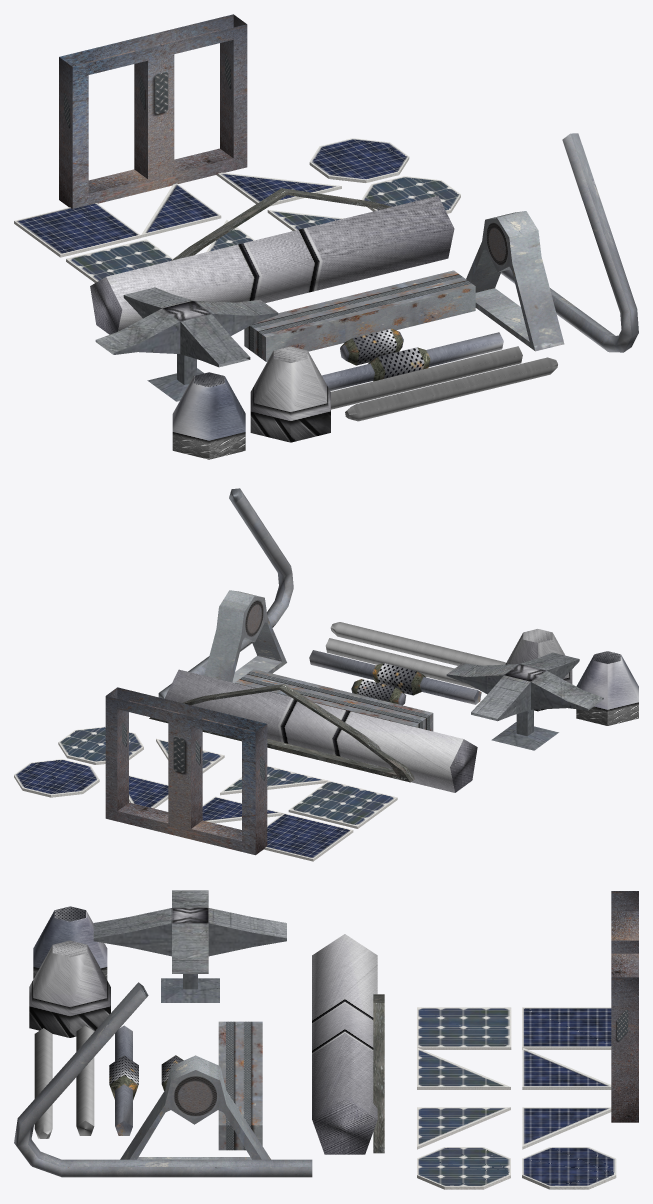
The model's file is platforms.fbx.
3 views of the same model, one above another, from view 1: azimuth 30°, elevation 25°; view 2: azimuth 150°, elevation 25°; view 3: azimuth 270°, elevation 25° (orthographic). The views are drawn at different scales.
Visible parts, largest first — view 1: pCylinder17, polySurface3, pCube2, Satelit_Holder, pCylinder31, cube (×2), pCylinder30, pCylinder19, octagon (×2), pCylinder16, pCylinder18, pCylinder14 (+5 smaller); view 2: polySurface3, pCylinder17, Satelit_Holder, cube (×2), pCylinder31, octagon (×2), pCube2, pCylinder16, pCylinder33, pCylinder14, pCylinder19, pCylinder18 (+5 smaller); view 3: pCylinder17, Satelit_Holder, pCylinder19, cube (×2), octagon (×2), polySurface3, pCylinder30, pCylinder31, pCube2, triangle_r (×2), triangle_l (×2), pCylinder16 (+4 smaller).
Boxes of the visible parts, x1,y1,x2,y2 form: pCylinder17: (90,196,454,334); polySurface3: (59,14,247,208); pCube2: (244,270,475,361); Satelit_Holder: (95,287,278,401); pCylinder31: (466,211,564,351); cube (×2): (14,203,172,282); pCylinder30: (250,346,330,442); pCylinder19: (501,133,638,352); octagon (×2): (309,138,460,213); pCylinder16: (172,372,245,459); pCylinder18: (345,357,557,421); pCylinder14: (321,332,503,391); polySurface3: (105,687,267,855); pCylinder17: (165,669,477,792); Satelit_Holder: (446,652,603,750); cube (×2): (264,780,397,861); pCylinder31: (204,590,286,682); octagon (×2): (14,726,143,797); pCube2: (235,669,433,731); pCylinder16: (576,651,638,725); pCylinder33: (149,684,414,782); pCylinder14: (309,650,481,704); pCylinder19: (158,488,293,698); pCylinder18: (330,622,505,665); pCylinder17: (312,934,377,1154); Satelit_Holder: (93,890,286,1002); pCylinder19: (14,982,312,1177); cube (×2): (417,1007,611,1049); octagon (×2): (417,1147,616,1189); polySurface3: (611,891,638,1122); pCylinder30: (29,940,110,1037); pCylinder31: (120,1055,270,1159); pCube2: (218,1021,262,1150); triangle_r (×2): (417,1107,611,1149); triangle_l (×2): (417,1047,611,1089); pCylinder16: (33,906,107,979).
Size of the model in its own units: 59.81 by 23.68 by 66.23.
